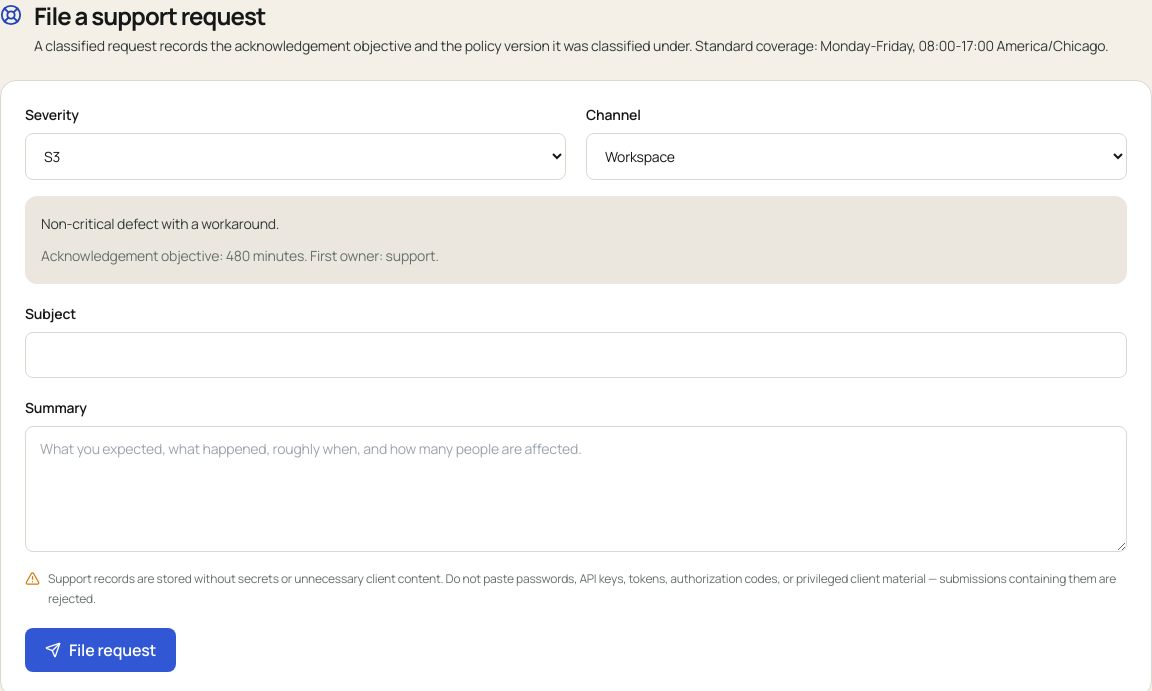
admin SupportTab › surfaces the rejection reason when the backend refuses unsafe content
This screenshot has width=1152, height=691.
Type "Cannot sign in" into the field labelled "Subject" at (576, 355), box [25,332,1127,378]
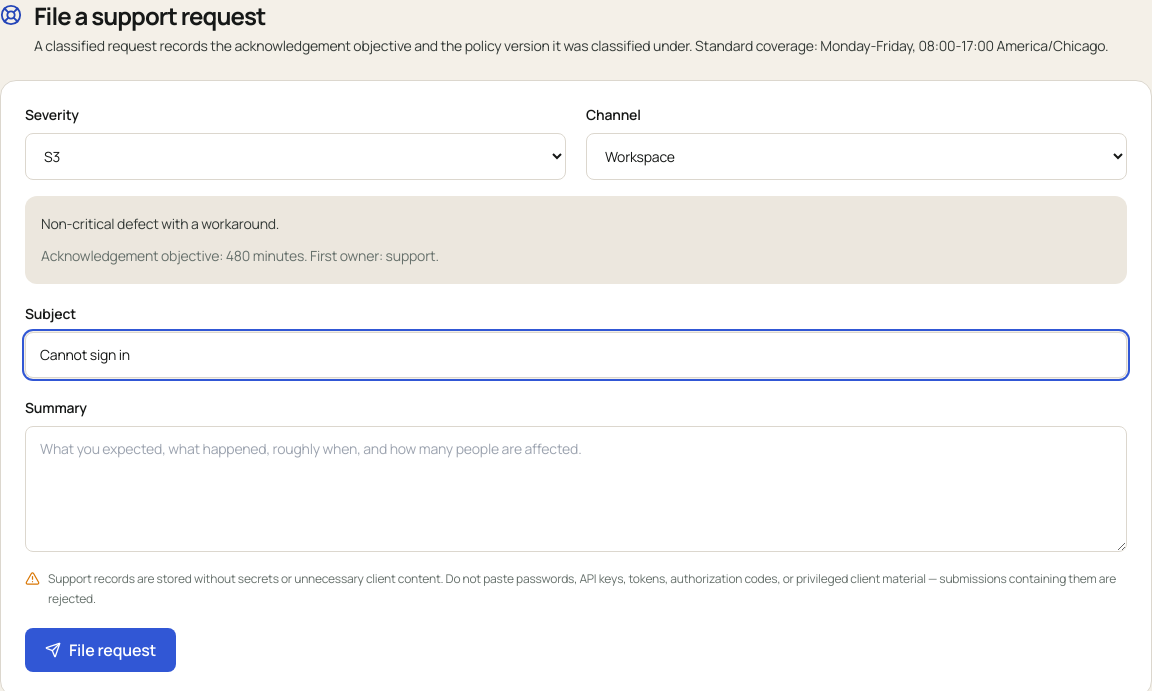
Type "password is hunter2" into the text box labelled "Summary" at (576, 489), box [25,426,1127,552]
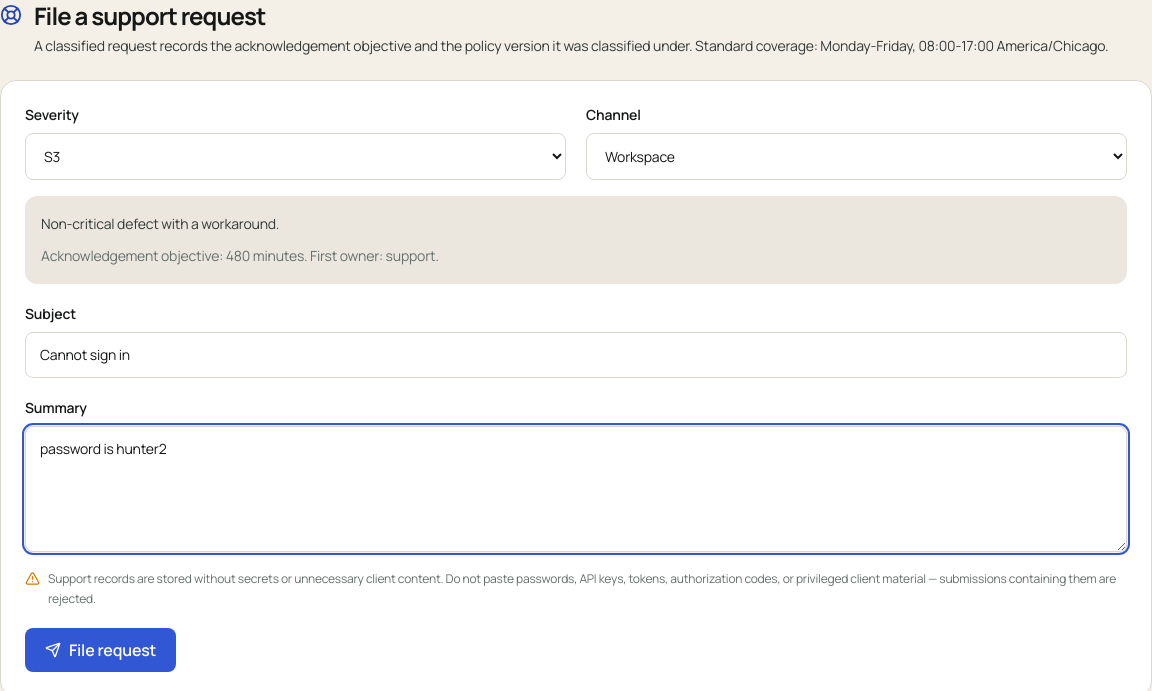
Click the button "File request" at (101, 650), box [25,628,176,672]
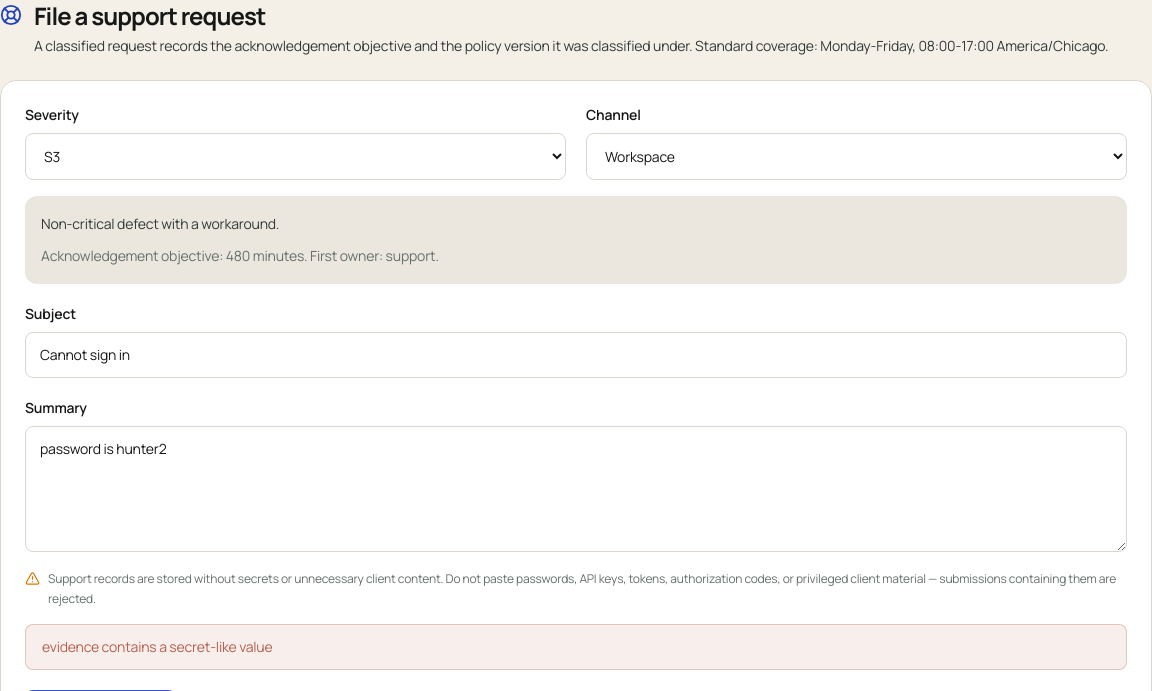
Expected: the message reads "evidence contains a secret-like value", [42,637,272,656]
